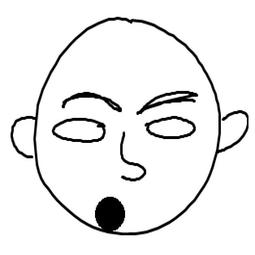ear: (5, 112, 41, 164), (214, 106, 251, 153)
empty_eye: (143, 112, 200, 143), (48, 117, 110, 144)
eyebrow: (135, 86, 204, 114), (55, 88, 122, 113)
nose: (108, 127, 148, 185)
open_mouth: (96, 190, 126, 231)
